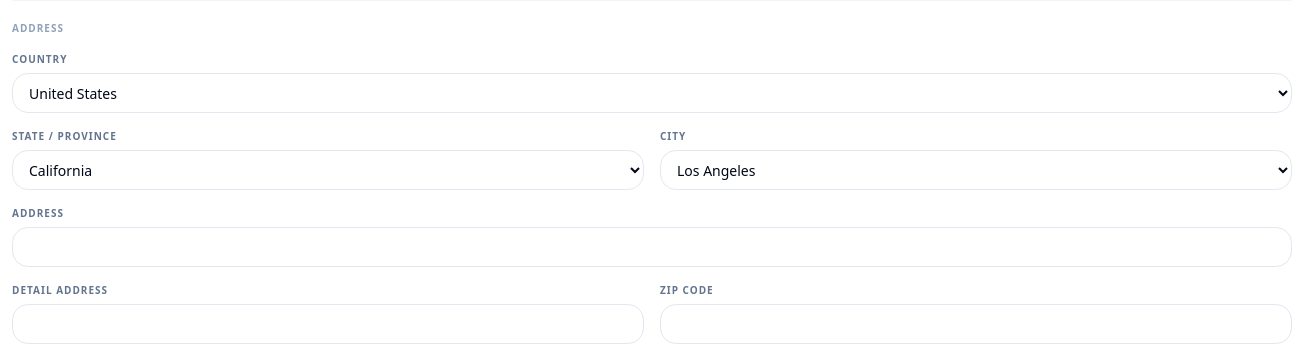
TC-P7-UI-ADDR-03: defaultValues 갱신 시 state/city 보존 (Issue #530) › 사용자가 state select를 직접 변경하면 city가 리셋됨 (기존 동작 보존)
직접 state 변경 → city 리셋
Select "New York" in the dropdown below "State / Province". click: (328, 170)
box: [12,150,644,190]
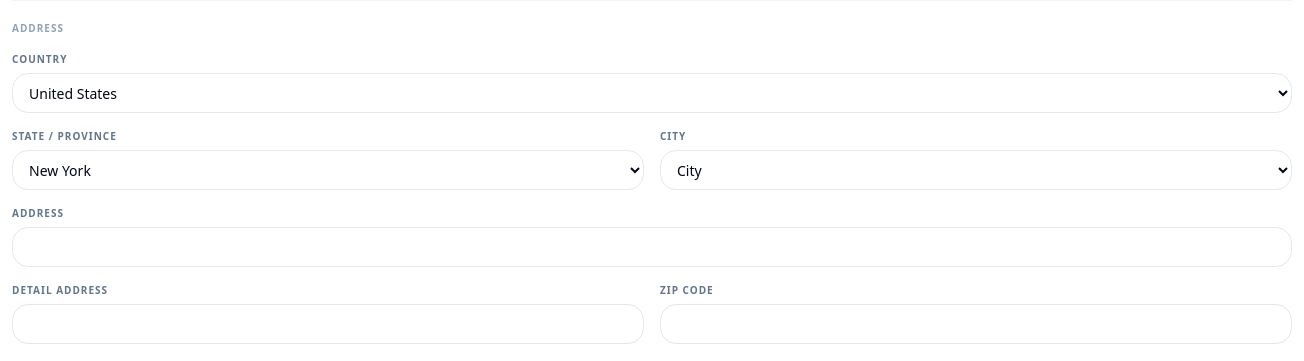
Expected: the dropdown below "City" shows "City", [660,150,1292,190]
